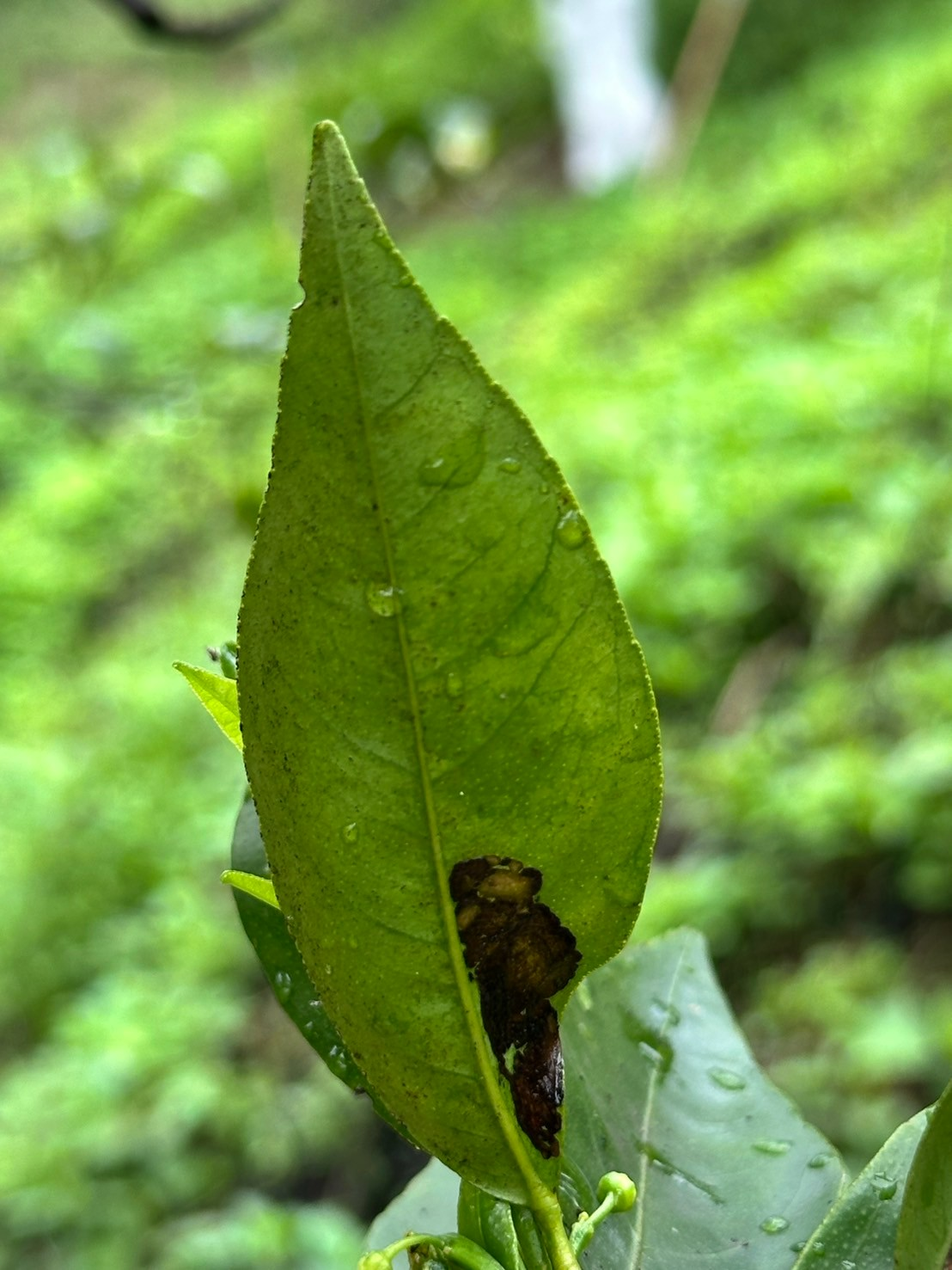Citrus_Leaf_Miner: (449, 855, 580, 1157)
